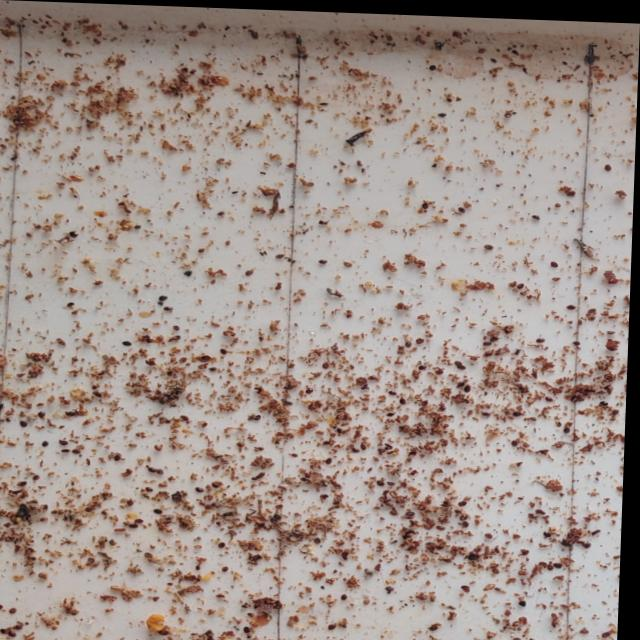varroa: (433, 622, 447, 630), (164, 304, 179, 311), (256, 552, 269, 560), (370, 371, 383, 379), (277, 252, 291, 259), (437, 366, 449, 374), (173, 334, 185, 342), (545, 527, 558, 534), (547, 392, 560, 399), (345, 591, 355, 600), (246, 625, 256, 634), (14, 607, 24, 616), (552, 256, 562, 265), (587, 538, 598, 546), (565, 423, 576, 431), (513, 436, 524, 444), (308, 385, 319, 393), (222, 347, 233, 355), (557, 559, 569, 566), (13, 632, 25, 639), (487, 530, 499, 537), (461, 498, 473, 505), (212, 480, 224, 487), (88, 507, 100, 514), (354, 445, 366, 452), (125, 340, 137, 347), (321, 257, 333, 264), (423, 199, 432, 208), (522, 596, 532, 604), (333, 621, 343, 629), (221, 540, 231, 548), (418, 335, 428, 343), (411, 448, 421, 456), (247, 269, 257, 277), (564, 537, 577, 543), (490, 581, 501, 588), (197, 486, 208, 493), (156, 508, 167, 515), (183, 414, 194, 421), (583, 625, 595, 631), (345, 547, 353, 556), (465, 518, 474, 526), (438, 522, 450, 528), (390, 479, 402, 485), (147, 485, 159, 491), (467, 382, 476, 390), (455, 357, 467, 363), (403, 394, 411, 403), (325, 360, 334, 368), (42, 410, 50, 419), (23, 421, 32, 429), (461, 203, 470, 211), (485, 241, 497, 247), (390, 583, 400, 590), (226, 565, 236, 572), (151, 466, 161, 473), (460, 378, 470, 385), (70, 411, 80, 418), (19, 626, 30, 632), (5, 629, 16, 635), (524, 547, 535, 553), (472, 551, 483, 557), (133, 523, 144, 529), (76, 448, 87, 454), (602, 397, 613, 403), (484, 408, 495, 414), (420, 362, 431, 368), (484, 338, 495, 344), (539, 334, 550, 340), (379, 446, 390, 452), (389, 410, 400, 416), (205, 354, 216, 360), (185, 270, 196, 276), (389, 388, 402, 393), (1, 604, 9, 612), (132, 498, 140, 506), (443, 402, 451, 410), (408, 338, 416, 346), (258, 413, 266, 421), (175, 324, 183, 332), (606, 160, 614, 168), (496, 565, 505, 572), (150, 552, 159, 559), (424, 397, 433, 404), (591, 304, 600, 311), (364, 440, 371, 449), (520, 280, 529, 287), (380, 478, 390, 484), (419, 503, 431, 508), (460, 362, 470, 368), (575, 337, 585, 343), (161, 295, 171, 301), (478, 517, 486, 524), (161, 468, 168, 476), (118, 454, 126, 461), (37, 475, 45, 482), (430, 62, 438, 69), (465, 582, 476, 587), (211, 635, 222, 640), (410, 510, 421, 515), (23, 482, 34, 487), (347, 261, 358, 266), (394, 508, 403, 514), (140, 518, 149, 524), (64, 440, 73, 446), (46, 442, 55, 448), (494, 333, 503, 339), (569, 301, 578, 307), (211, 366, 220, 372), (516, 409, 526, 414), (330, 456, 337, 463), (319, 535, 325, 543), (515, 532, 527, 536), (170, 370, 178, 376), (100, 392, 108, 398), (70, 303, 78, 309), (72, 232, 79, 238), (95, 385, 102, 390)
